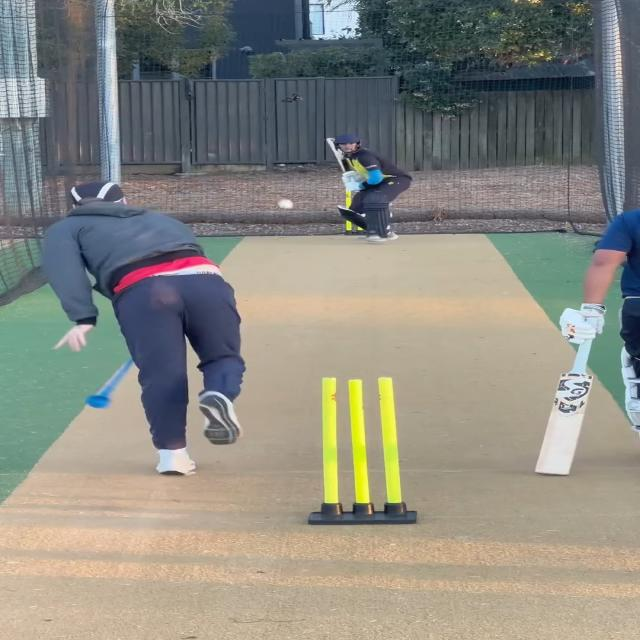ball: (272, 194, 300, 217)
stump: (307, 376, 419, 527)
